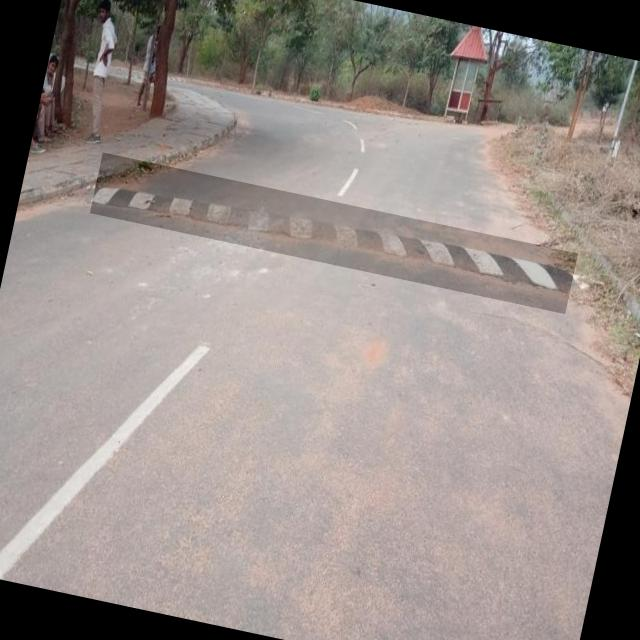bump: (89, 153, 578, 314)
